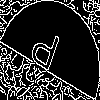P: (25, 25, 62, 81)
